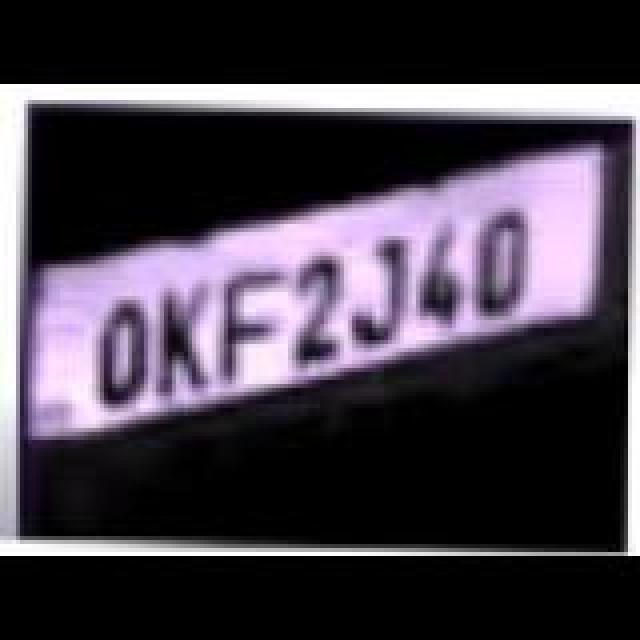2: (276, 252, 364, 372)
4: (402, 222, 486, 338)
D: (460, 206, 548, 322)
F: (204, 264, 300, 384)
J: (336, 234, 424, 350)
K: (138, 280, 230, 400)
O: (82, 296, 166, 416)
